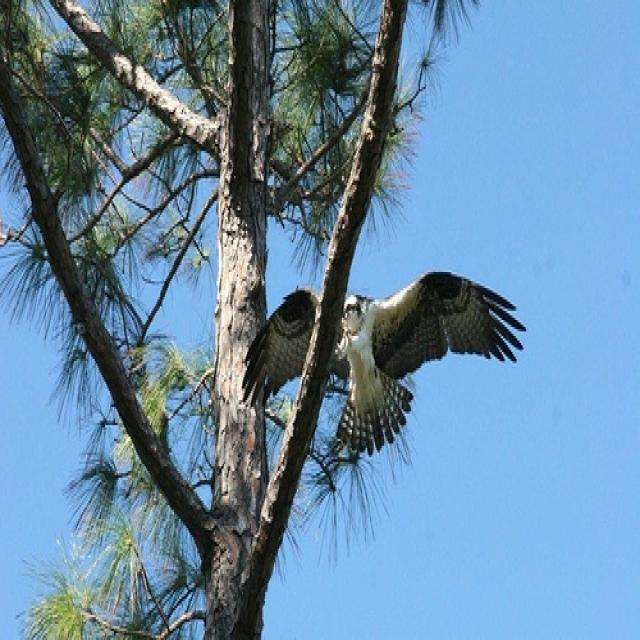bird: (245, 265, 526, 469)
